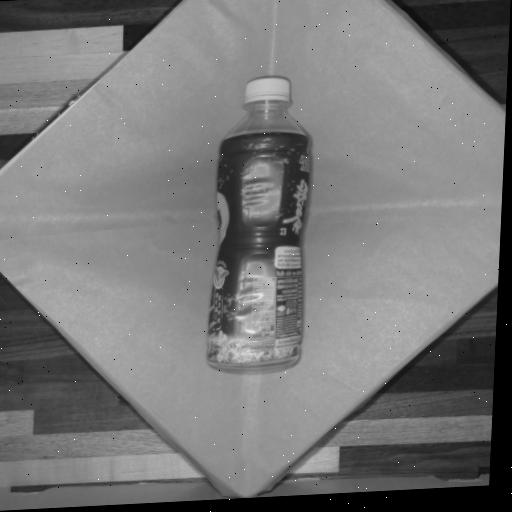bottle: (206, 73, 319, 373)
